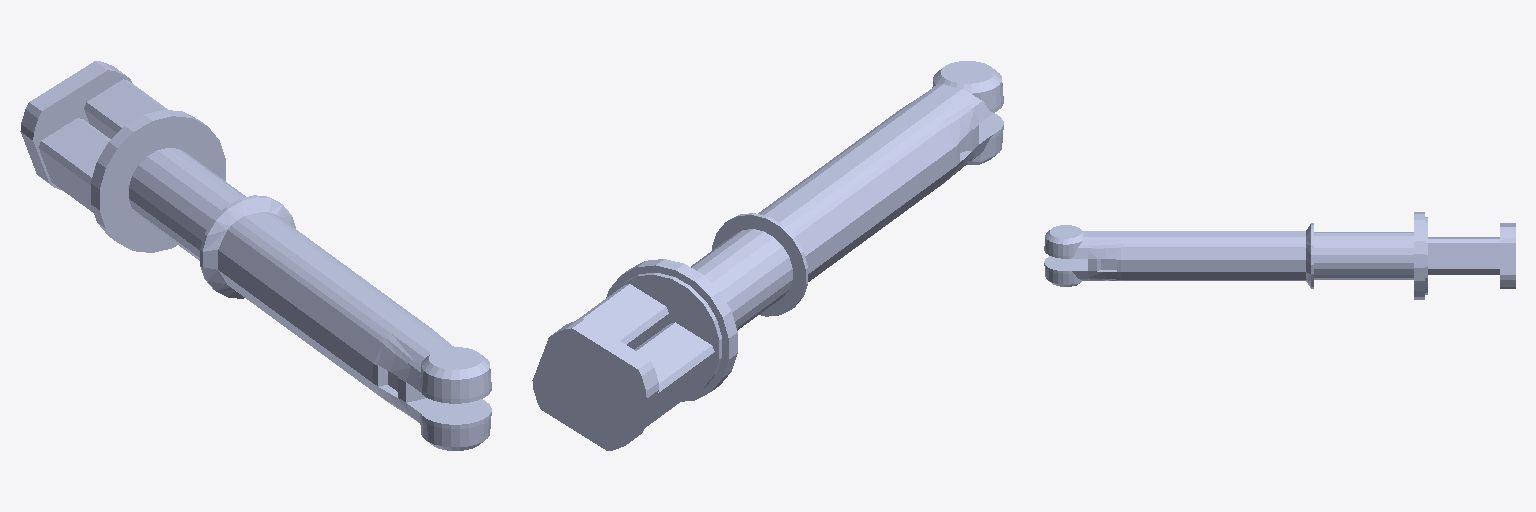
robot.urdf — link4:
<robot
  name="link4">
  <link
    name="link4_fixed_origin_nov9">
    <inertial>
      <origin
        xyz="-0.01 -0.16299 -2.80139999999002E-06"
        rpy="0 0 0" />
      <mass
        value="11.024" />
      <inertia
        ixx="1.04704842520385"
        ixy="2.37064101551056E-13"
        ixz="0.00134671229464565"
        iyy="0.0232013100878432"
        iyz="-1.57581187980885E-05"
        izz="1.04790395781747" />
    </inertial>
    <visual>
      <origin
        xyz="0 0 0"
        rpy="1.5707963267949 0 0" />
      <geometry>
        <mesh
          filename="package://link4_fixed_origin_nov9/meshes/link4_fixed_origin_nov9.STL" />
      </geometry>
      <material
        name="">
        <color
          rgba="0.79216 0.81961 0.93333 1" />
      </material>
    </visual>
    <collision>
      <origin
        xyz="0 0 0"
        rpy="1.5707963267949 0 0" />
      <geometry>
        <mesh
          filename="package://link4_fixed_origin_nov9/meshes/link4_fixed_origin_nov9.STL" />
      </geometry>
    </collision>
  </link>
</robot>

--- Render facts (derived) ---
Views: 3 orthographic renders of the robot side by side, from view 1: azimuth 30°, elevation 25°; view 2: azimuth 150°, elevation 25°; view 3: azimuth 270°, elevation 25°.
Robot: link4 — 1 links, 0 joints (none); root link link4_fixed_origin_nov9; default pose: all joints at 0.
Links seen in each view (by area): view 1: link4_fixed_origin_nov9; view 2: link4_fixed_origin_nov9; view 3: link4_fixed_origin_nov9.
Link boxes in pixels (box(x1,y1,x2,y2)): link4_fixed_origin_nov9: box(20, 61, 491, 450); link4_fixed_origin_nov9: box(532, 61, 1003, 450); link4_fixed_origin_nov9: box(1044, 212, 1515, 299).
Size in the robot's own frame: 0.195 by 1.06 by 0.195 metres.
1 mesh visuals loaded from 1 distinct referenced files (1 binary STL).